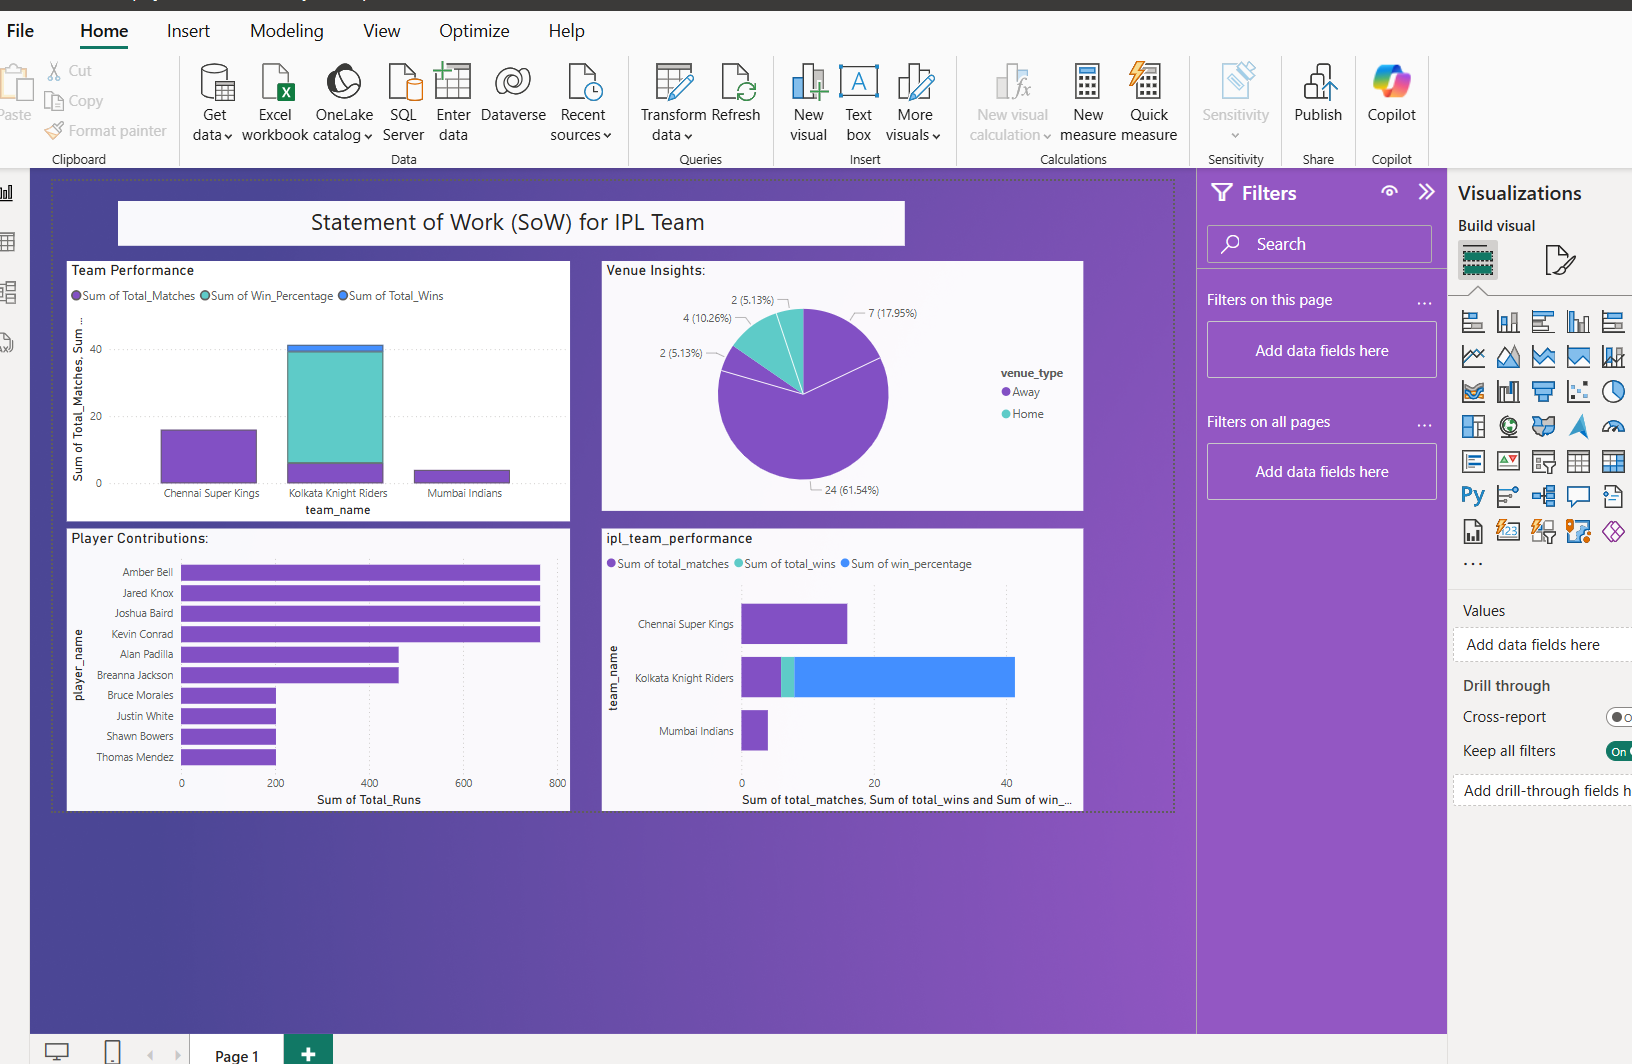

This screenshot's page, from the dashboard's own definition file:
{"tool":"powerbi","page":{"name":"Page 1","canvas":[1280,720],"ordinal":0},"visuals":[{"type":"columnChart","title":"Team Performance","fields":{"Category":["Team_Performance.team_name"],"Y":["Sum(Team_Performance.Total_Matches)","Sum(Team_Performance.Win_Percentage)","Sum(Team_Performance.Total_Wins)"]},"box":[15.6,91.1,575.6,297.8],"z":0},{"type":"barChart","title":"Player Contributions:","fields":{"Category":["Player_Contribution.player_name"],"Y":["Sum(Player_Contribution.Total_Runs)"]},"box":[15.6,396.7,575.6,323.3],"z":1},{"type":"pieChart","title":"Venue Insights:","fields":{"Category":["Venue_Analysis.venue_type"],"Y":["Sum(Venue_Analysis.team_id)","Sum(Venue_Analysis.total_matches)","Sum(Venue_Analysis.total_wins)"]},"box":[627.1,91.4,550,285.7],"z":2},{"type":"barChart","title":"ipl_team_performance","fields":{"Category":["ipl_team_performance_summary.team_name"],"Y":["Sum(ipl_team_performance_summary.total_matches)","Sum(ipl_team_performance_summary.total_wins)","Sum(ipl_team_performance_summary.win_percentage)"]},"box":[626.7,396.7,550,323.3],"z":3},{"type":"textbox","box":[74.4,23.3,898.9,51.1],"z":4}]}

Visuals, with their boxes on the page's 1280x720 design canvas (x1, y1, x2, y2). These are canvas units, not pixel positions in the 1632x1064 screenshot, which may show the page scaled, cropped or inside an application window:
"Team Performance" columnChart: [16, 91, 591, 389]
"Player Contributions:" barChart: [16, 397, 591, 720]
"Venue Insights:" pieChart: [627, 91, 1177, 377]
"ipl_team_performance" barChart: [627, 397, 1177, 720]
textbox: [74, 23, 973, 74]
